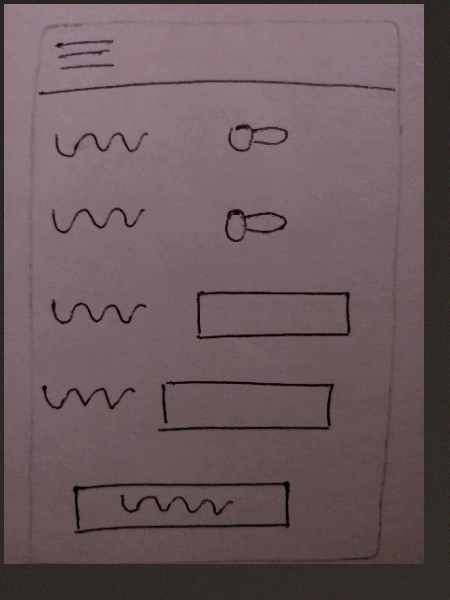switch: (207, 111, 305, 165), (211, 196, 299, 251)
text: (47, 119, 166, 160), (46, 194, 147, 242), (46, 288, 151, 334), (37, 371, 137, 416)
text_input: (154, 372, 341, 441), (186, 282, 359, 344)
